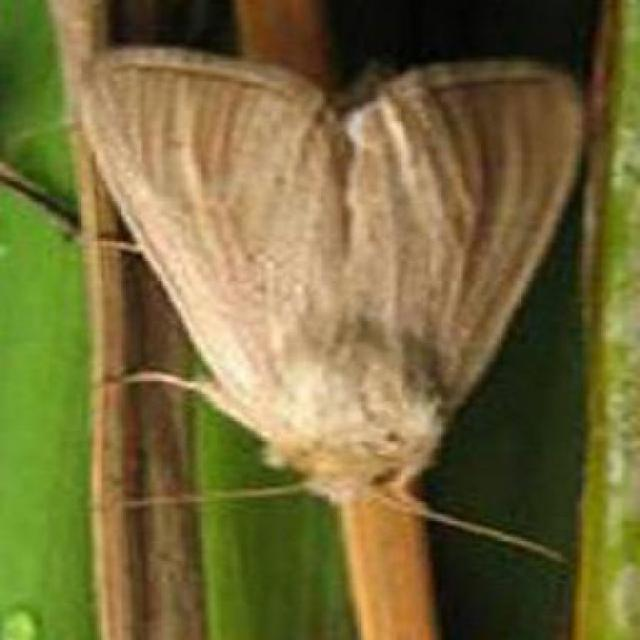stem-borer: (69, 43, 588, 566)
